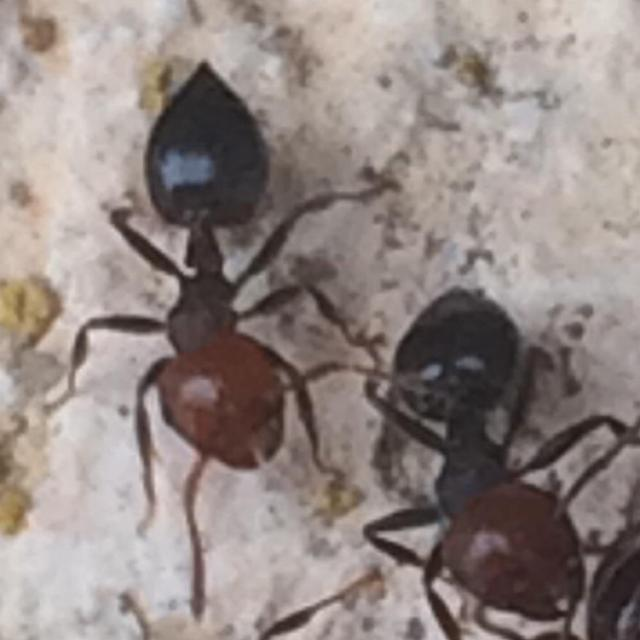Crematogaster: (81, 70, 336, 486), (336, 260, 614, 632)
